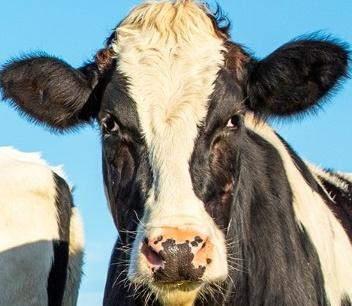muzzles: (125, 225, 235, 295)
